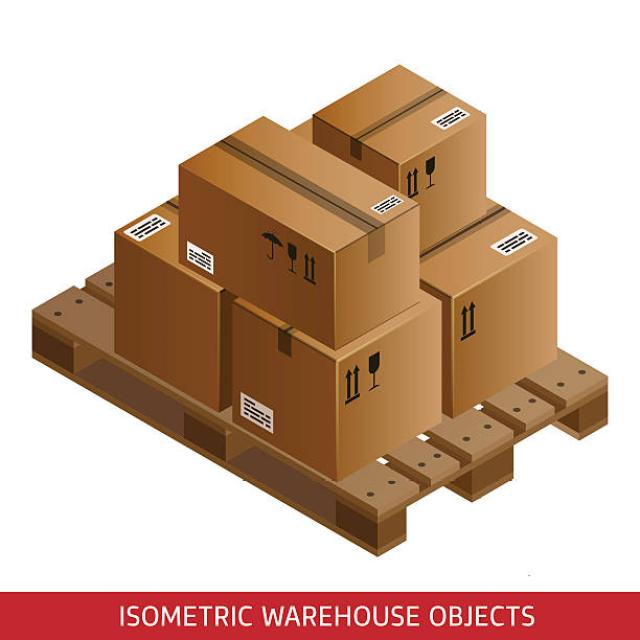Wooden-Pallets: (21, 311, 610, 556)
